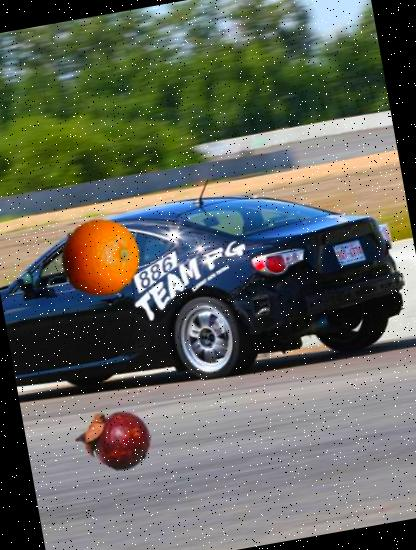Mangostan: (73, 394, 158, 480)
Orange: (54, 211, 146, 303)
